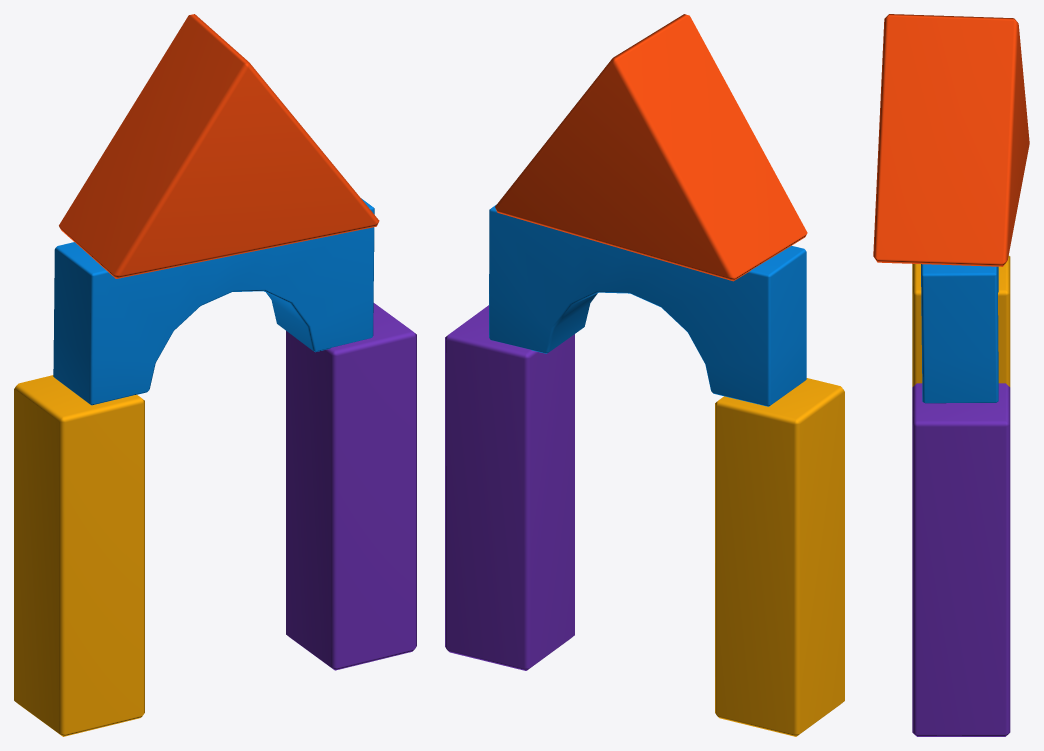
File: Store_9_Toys_set_4.glb
The picture shows the model from 3 angles, left to right: view 1: azimuth 30°, elevation 25°; view 2: azimuth 150°, elevation 25°; view 3: azimuth 270°, elevation 25°; orthographic projection.
Parts seen in each view (by area): view 1: Store_9_Toys_set_4; view 2: Store_9_Toys_set_4; view 3: Store_9_Toys_set_4.
Boxes of the visible parts, x1,y1,x2,y2 form: Store_9_Toys_set_4: [14, 14, 416, 736]; Store_9_Toys_set_4: [445, 14, 844, 736]; Store_9_Toys_set_4: [873, 14, 1029, 736].
Size of the model in its own units: 0.2866 by 0.492 by 0.1099.
Materials: 1 (1 with a texture image).
